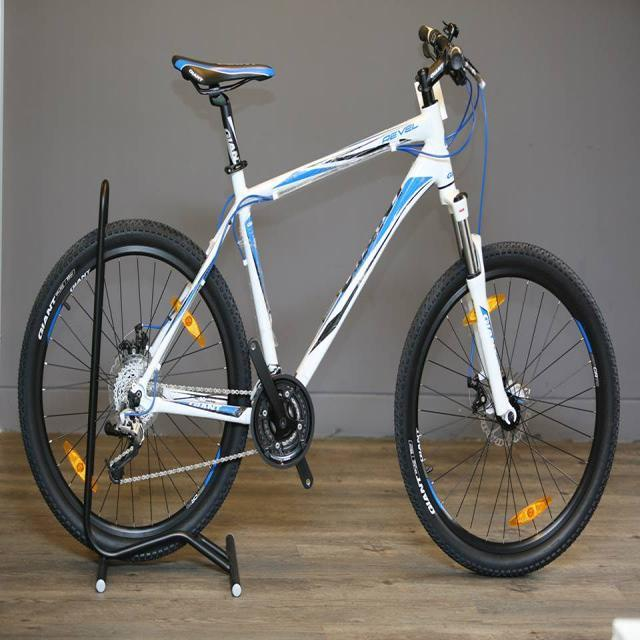Bicycle: (14, 13, 628, 618)
